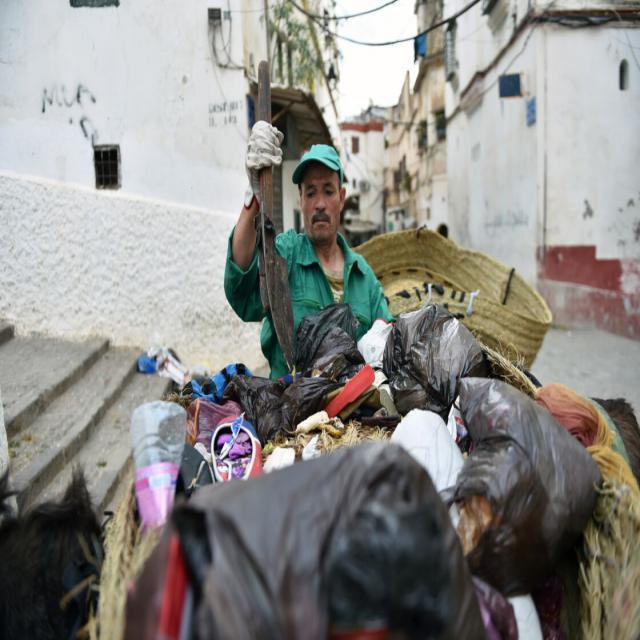Trashbag: (171, 461, 486, 638), (454, 373, 593, 572), (382, 300, 482, 404), (229, 378, 326, 434), (290, 305, 362, 365)
